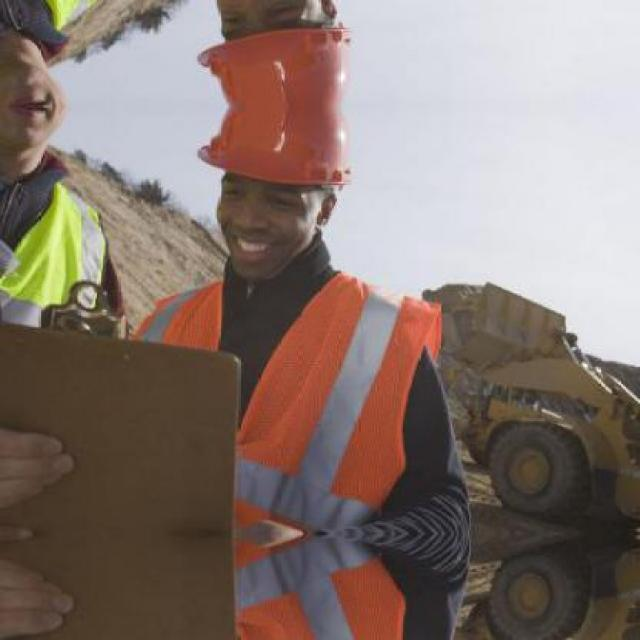Reflective-Jacket: (137, 261, 463, 634), (0, 148, 122, 532)
Safety-Helmet: (196, 97, 367, 199)
